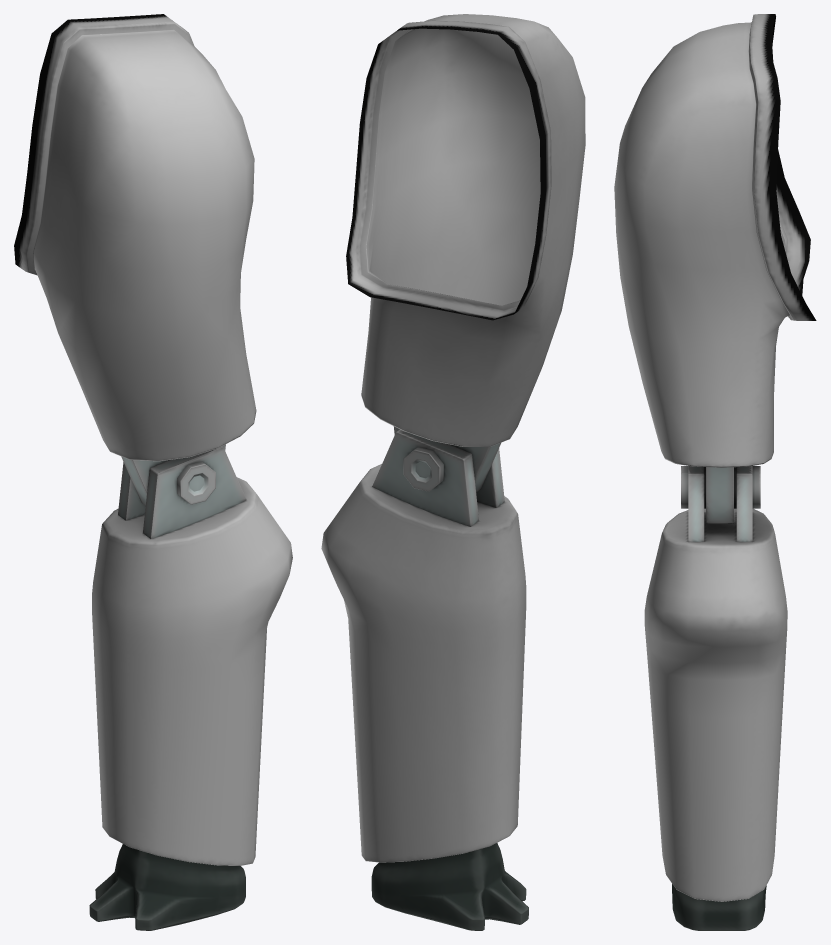
The model's file is left_back_leg.obj.
The picture shows the model from 3 angles, left to right: view 1: azimuth 30°, elevation 25°; view 2: azimuth 150°, elevation 25°; view 3: azimuth 270°, elevation 25°; orthographic projection. The views are drawn at different scales.
Visible parts, largest first — view 1: Useless_Dog__Leg_back_right1; view 2: Useless_Dog__Leg_back_right1; view 3: Useless_Dog__Leg_back_right1.
Boxes of the visible parts, x1=… form: Useless_Dog__Leg_back_right1: x1=14, y1=14, x2=292, y2=930; Useless_Dog__Leg_back_right1: x1=321, y1=14, x2=585, y2=930; Useless_Dog__Leg_back_right1: x1=614, y1=14, x2=816, y2=930.
Size of the model in its own units: 0.7932 by 2.95 by 0.6347.
1 material, 1 textured.
